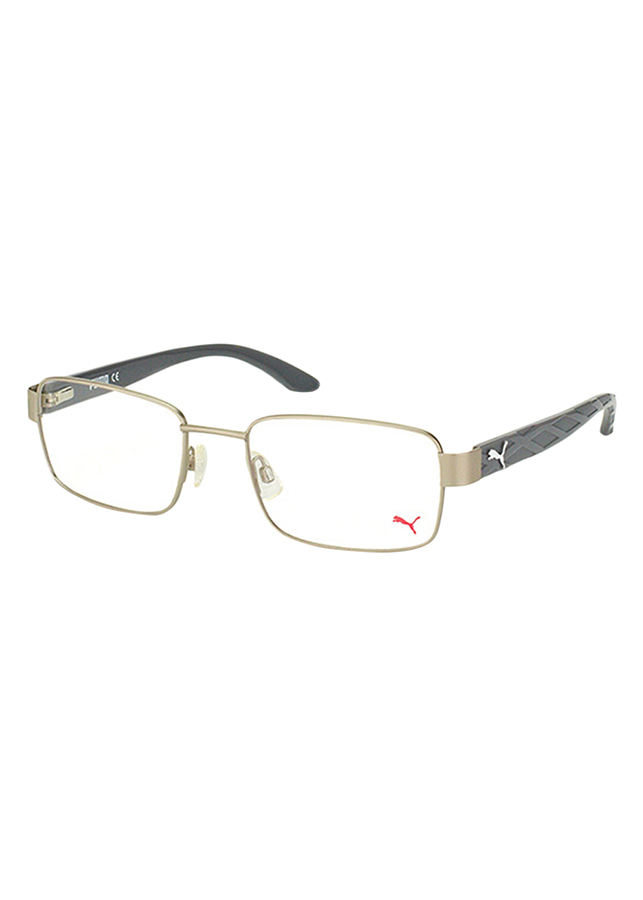Puma: (478, 434, 517, 478), (385, 508, 430, 544)
